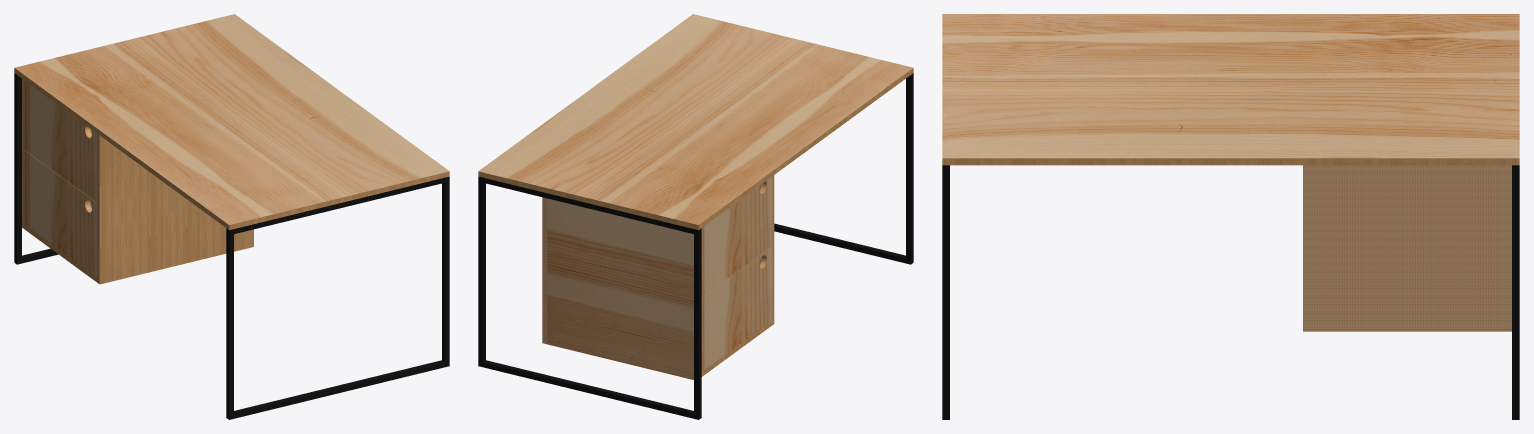
The model's file is Escrivaninha.glb.
3 views of the same model, side by side, from view 1: azimuth 30°, elevation 25°; view 2: azimuth 150°, elevation 25°; view 3: azimuth 270°, elevation 25° (orthographic). The views are drawn at different scales.
Parts seen in each view (by area): view 1: Component#22, Component#27, Component#7 (×2), Component#44, Component#21; view 2: Component#22, Component#27, Component#7 (×2), Component#21, Component#44; view 3: Component#22, Component#27, Component#44, Component#21.
Part boxes in pixels (<box>): Component#22: <box>14,14,449,230</box>; Component#27: <box>22,79,253,284</box>; Component#7 (×2): <box>24,81,96,276</box>; Component#44: <box>226,176,449,419</box>; Component#21: <box>14,73,58,264</box>; Component#22: <box>478,14,913,230</box>; Component#27: <box>542,175,774,379</box>; Component#7 (×2): <box>701,177,771,371</box>; Component#21: <box>478,176,701,419</box>; Component#44: <box>774,73,913,264</box>; Component#22: <box>942,14,1519,165</box>; Component#27: <box>1303,165,1511,331</box>; Component#44: <box>942,165,949,419</box>; Component#21: <box>1512,165,1519,419</box>.
Bounding box in the file's own units: 0.9 × 0.76 × 1.52.
Materials: 5 (4 with a texture image).
